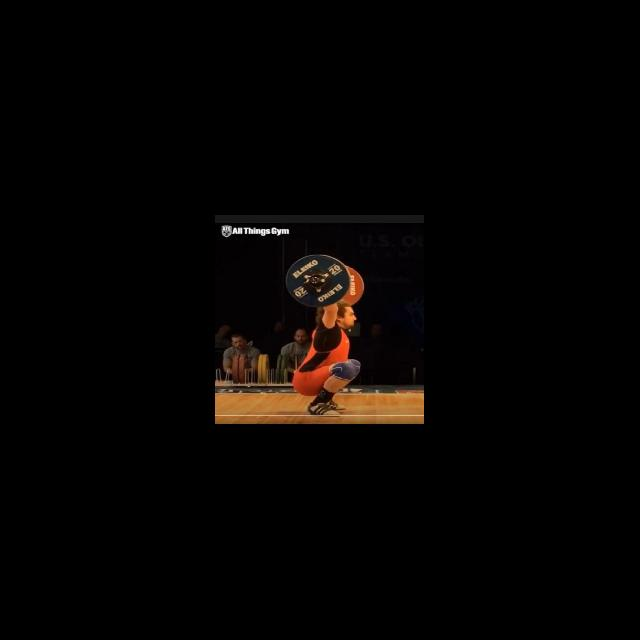barbell: (283, 252, 353, 309)
